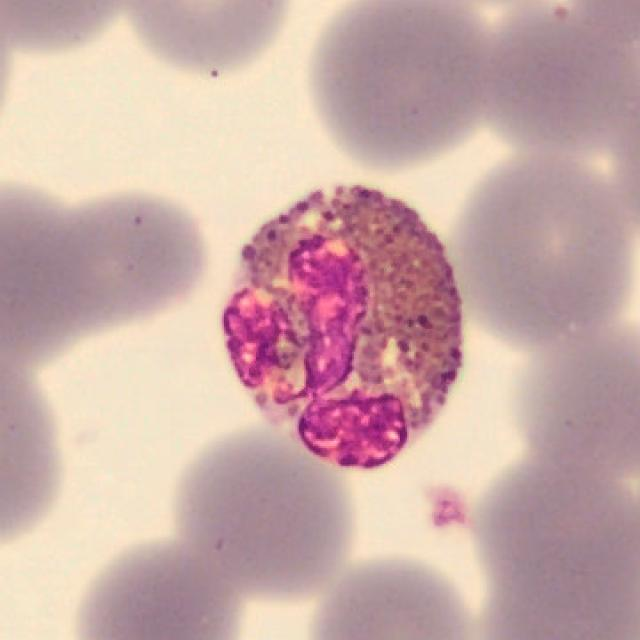Eosinofilo: (220, 187, 462, 471)
